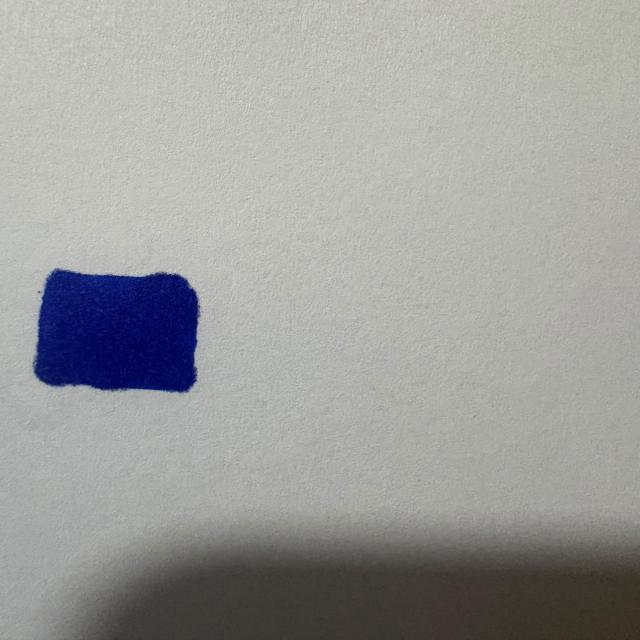Square: (33, 269, 200, 394)
